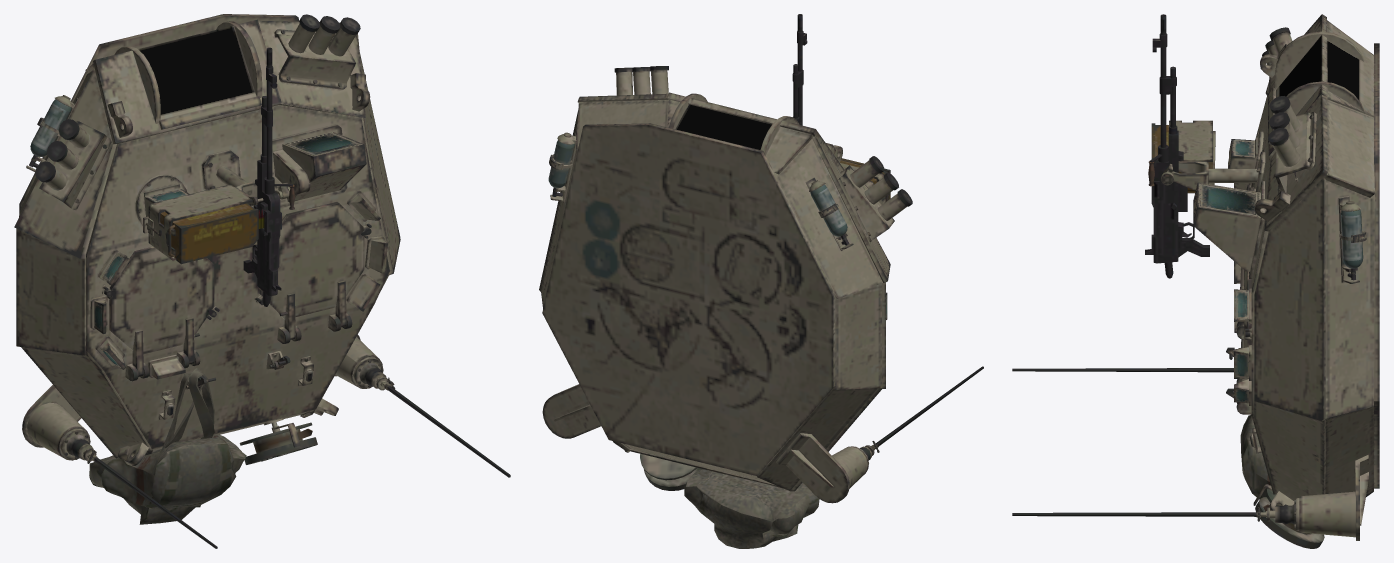
Rendered from Turret_02.glb.
3 renders of one model, left to right at view 1: azimuth 30°, elevation 25°; view 2: azimuth 150°, elevation 25°; view 3: azimuth 270°, elevation 25°, orthographic. The views are drawn at different scales.
Visible parts, largest first — view 1: set_0_group_0; view 2: set_0_group_0; view 3: set_0_group_0.
Part boxes in pixels (x1,y1,x2,y2): set_0_group_0: [14, 14, 510, 548]; set_0_group_0: [539, 14, 983, 548]; set_0_group_0: [1012, 14, 1379, 548].
Size of the model in its own units: 1.76 by 2.25 by 1.43.
Materials: 1 (1 with a texture image).
